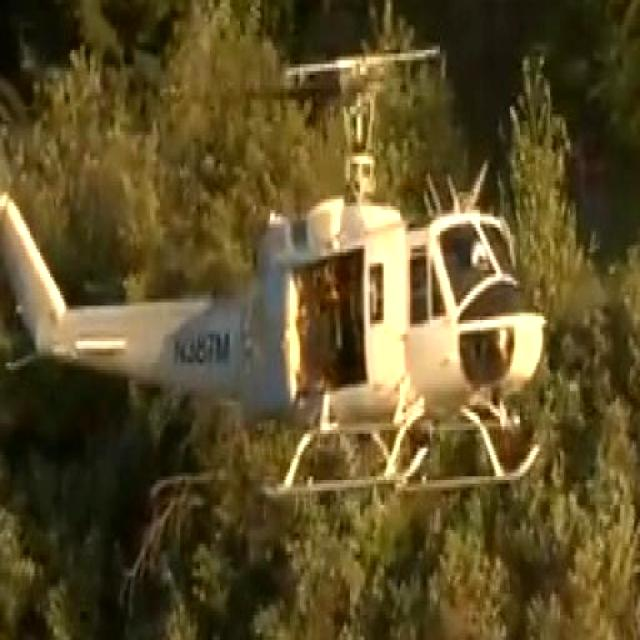drone: (0, 15, 549, 509)
